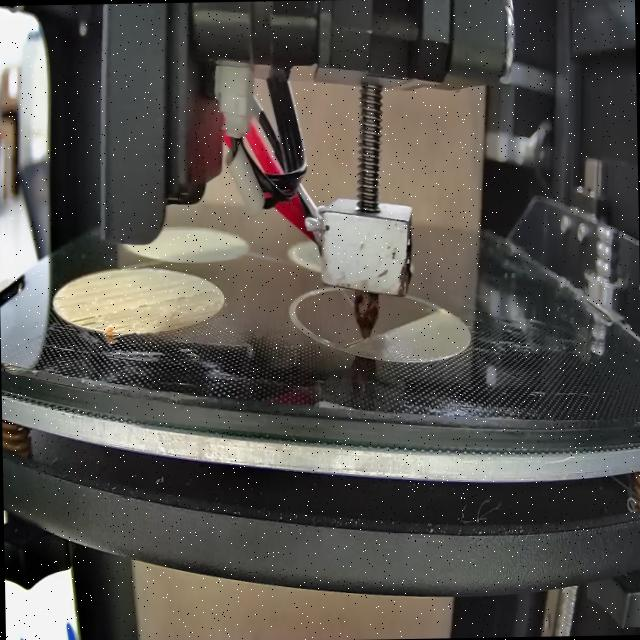under_extrusion: (137, 288, 216, 310), (72, 310, 109, 337), (54, 286, 68, 301)
